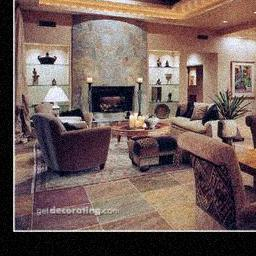Matera: (214, 88, 249, 140)
